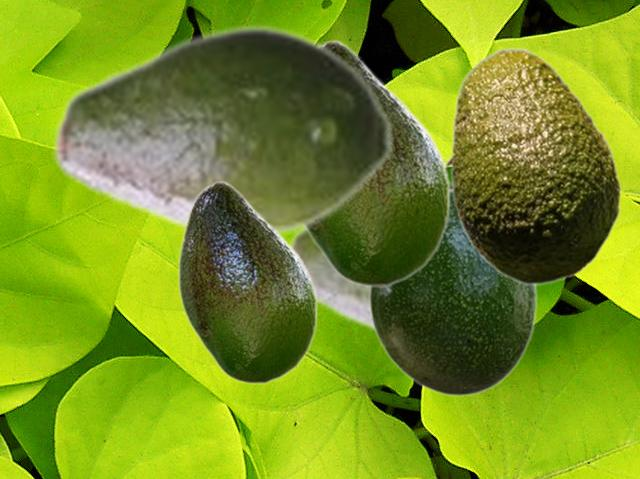avocado: (52, 23, 395, 239), (443, 47, 621, 284), (305, 39, 450, 286), (368, 197, 536, 396), (178, 180, 317, 383), (289, 232, 542, 339)
